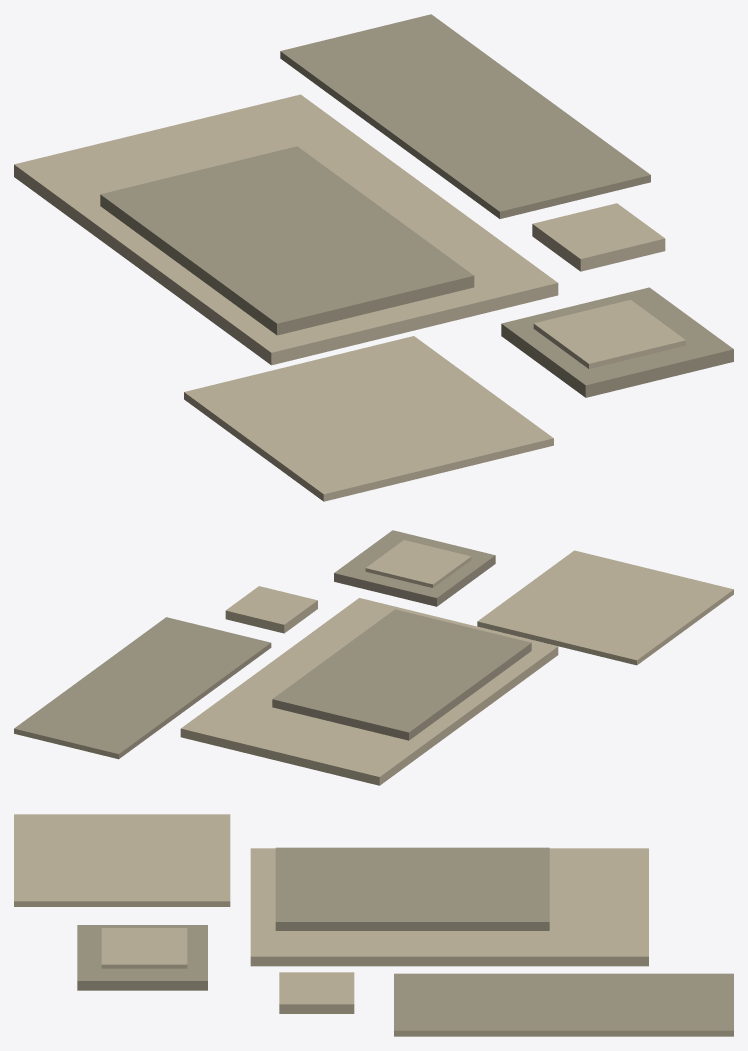
File: fbx_pebbles02.fbx
The picture shows the model from 3 angles, top to bottom: view 1: azimuth 30°, elevation 25°; view 2: azimuth 150°, elevation 25°; view 3: azimuth 270°, elevation 25°; orthographic projection. The views are drawn at different scales.
Parts seen in each view (by area): view 1: sm_pebbles02; view 2: sm_pebbles02; view 3: sm_pebbles02.
Boxes of the visible parts, x1,y1,x2,y2 form: sm_pebbles02: [14, 14, 733, 501]; sm_pebbles02: [14, 530, 733, 785]; sm_pebbles02: [14, 814, 733, 1036].
Bounding box in the file's own units: 51.6 × 2.1 × 72.58.
